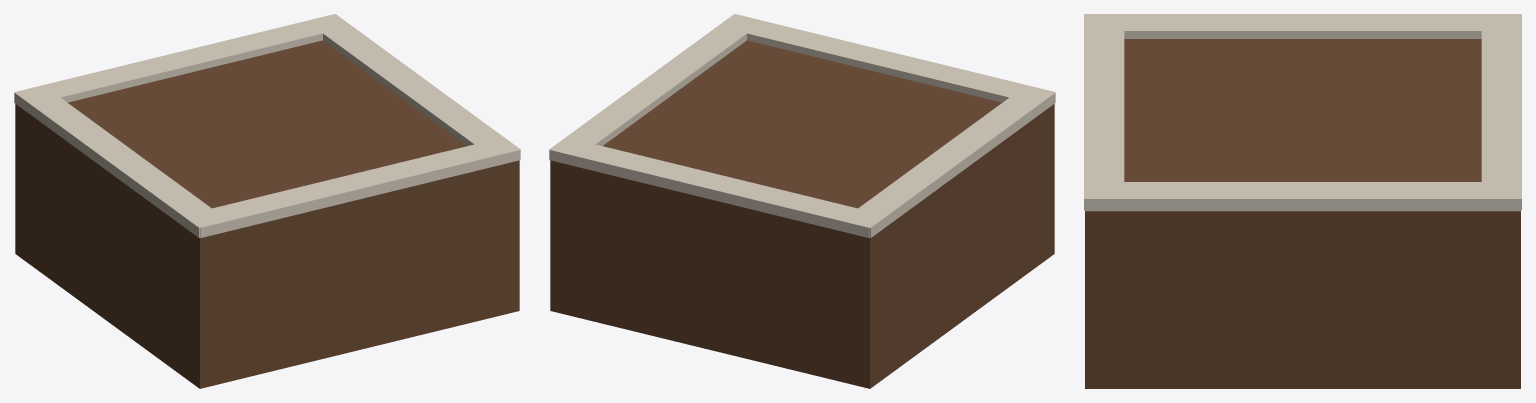
File: hotTub.glb
3 views of the same model, side by side, from view 1: azimuth 30°, elevation 25°; view 2: azimuth 150°, elevation 25°; view 3: azimuth 270°, elevation 25° (orthographic). The views are drawn at different scales.
Visible parts, largest first — view 1: hotTub; view 2: hotTub; view 3: hotTub.
Part boxes in pixels (x1=…): hotTub: x1=14, y1=14, x2=520, y2=388; hotTub: x1=549, y1=14, x2=1055, y2=388; hotTub: x1=1084, y1=14, x2=1521, y2=388.
Size of the model in its own units: 1.96 by 0.94 by 1.96.
